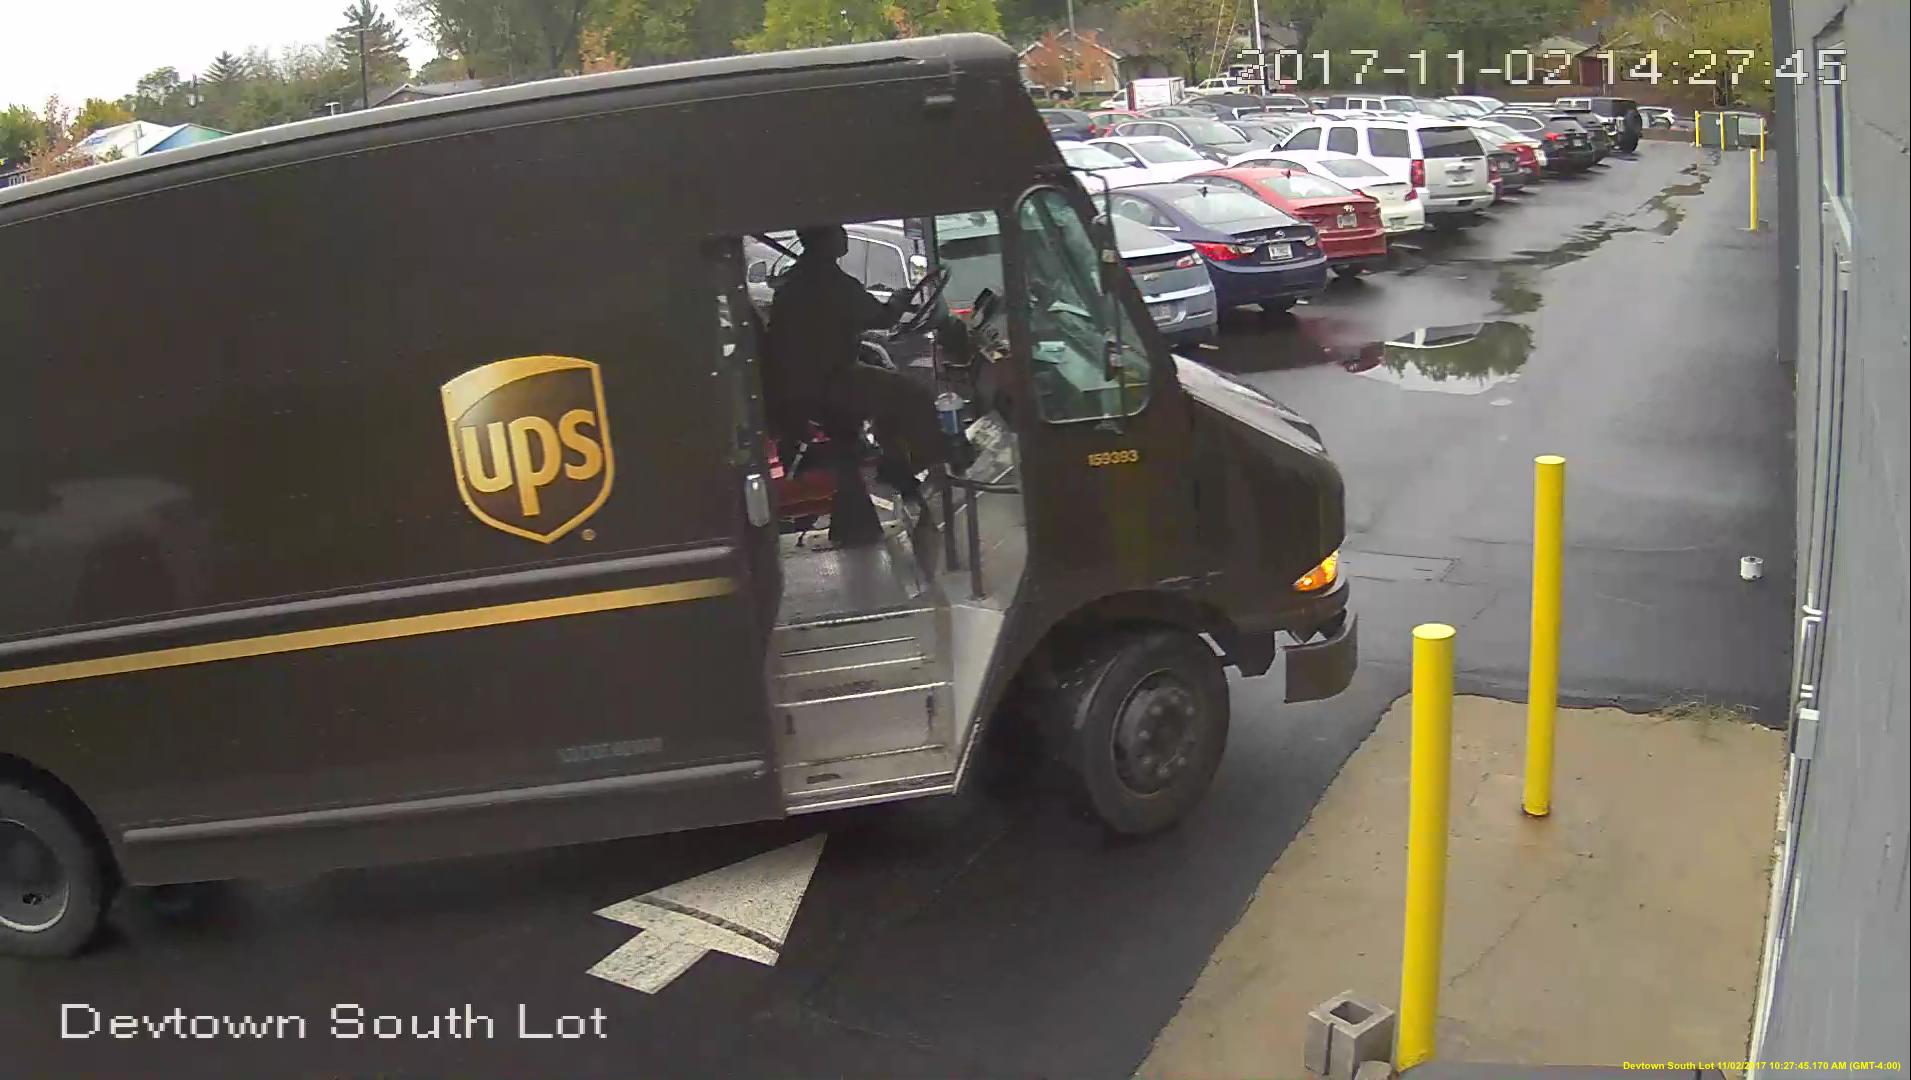ups_truck: (1, 39, 1345, 966)
